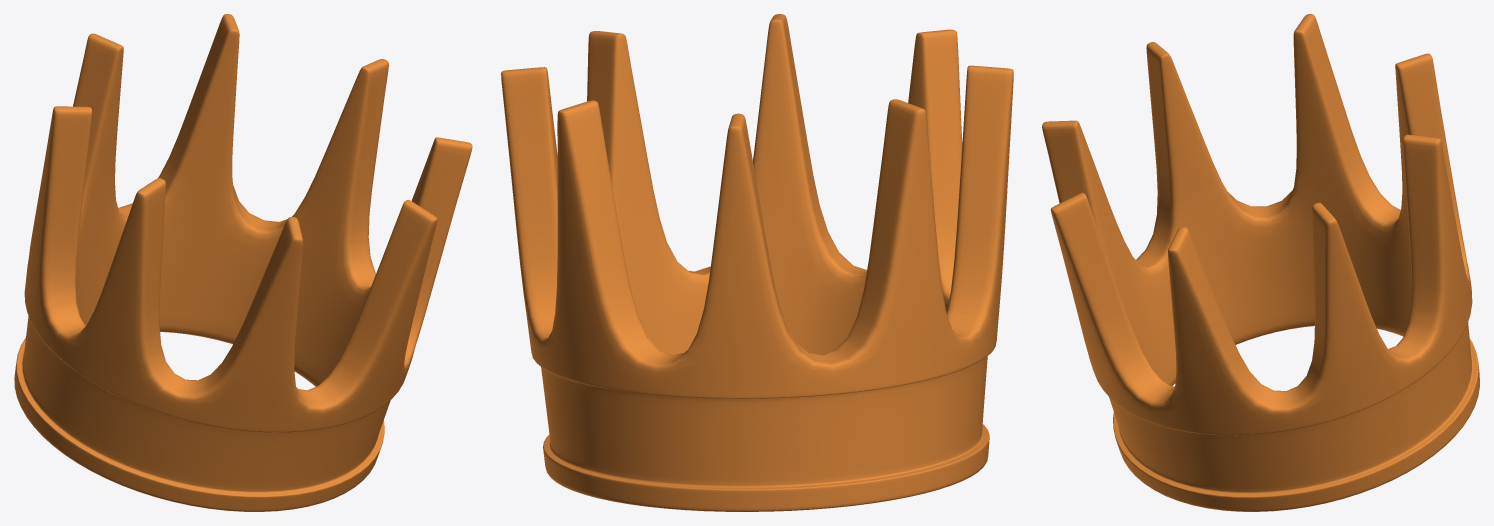
Rendered from CORONA MELA.fbx.
3 views of the same model, side by side, from view 1: azimuth 30°, elevation 25°; view 2: azimuth 150°, elevation 25°; view 3: azimuth 270°, elevation 25° (orthographic). The views are drawn at different scales.
Visible parts, largest first — view 1: Circle; view 2: Circle; view 3: Circle.
Boxes of the visible parts, left/top/right/bottom form: Circle: left=14, top=14, right=472, bottom=511; Circle: left=501, top=14, right=1013, bottom=511; Circle: left=1042, top=14, right=1479, bottom=511.
Bounding box in the file's own units: 243 × 236 × 251.
